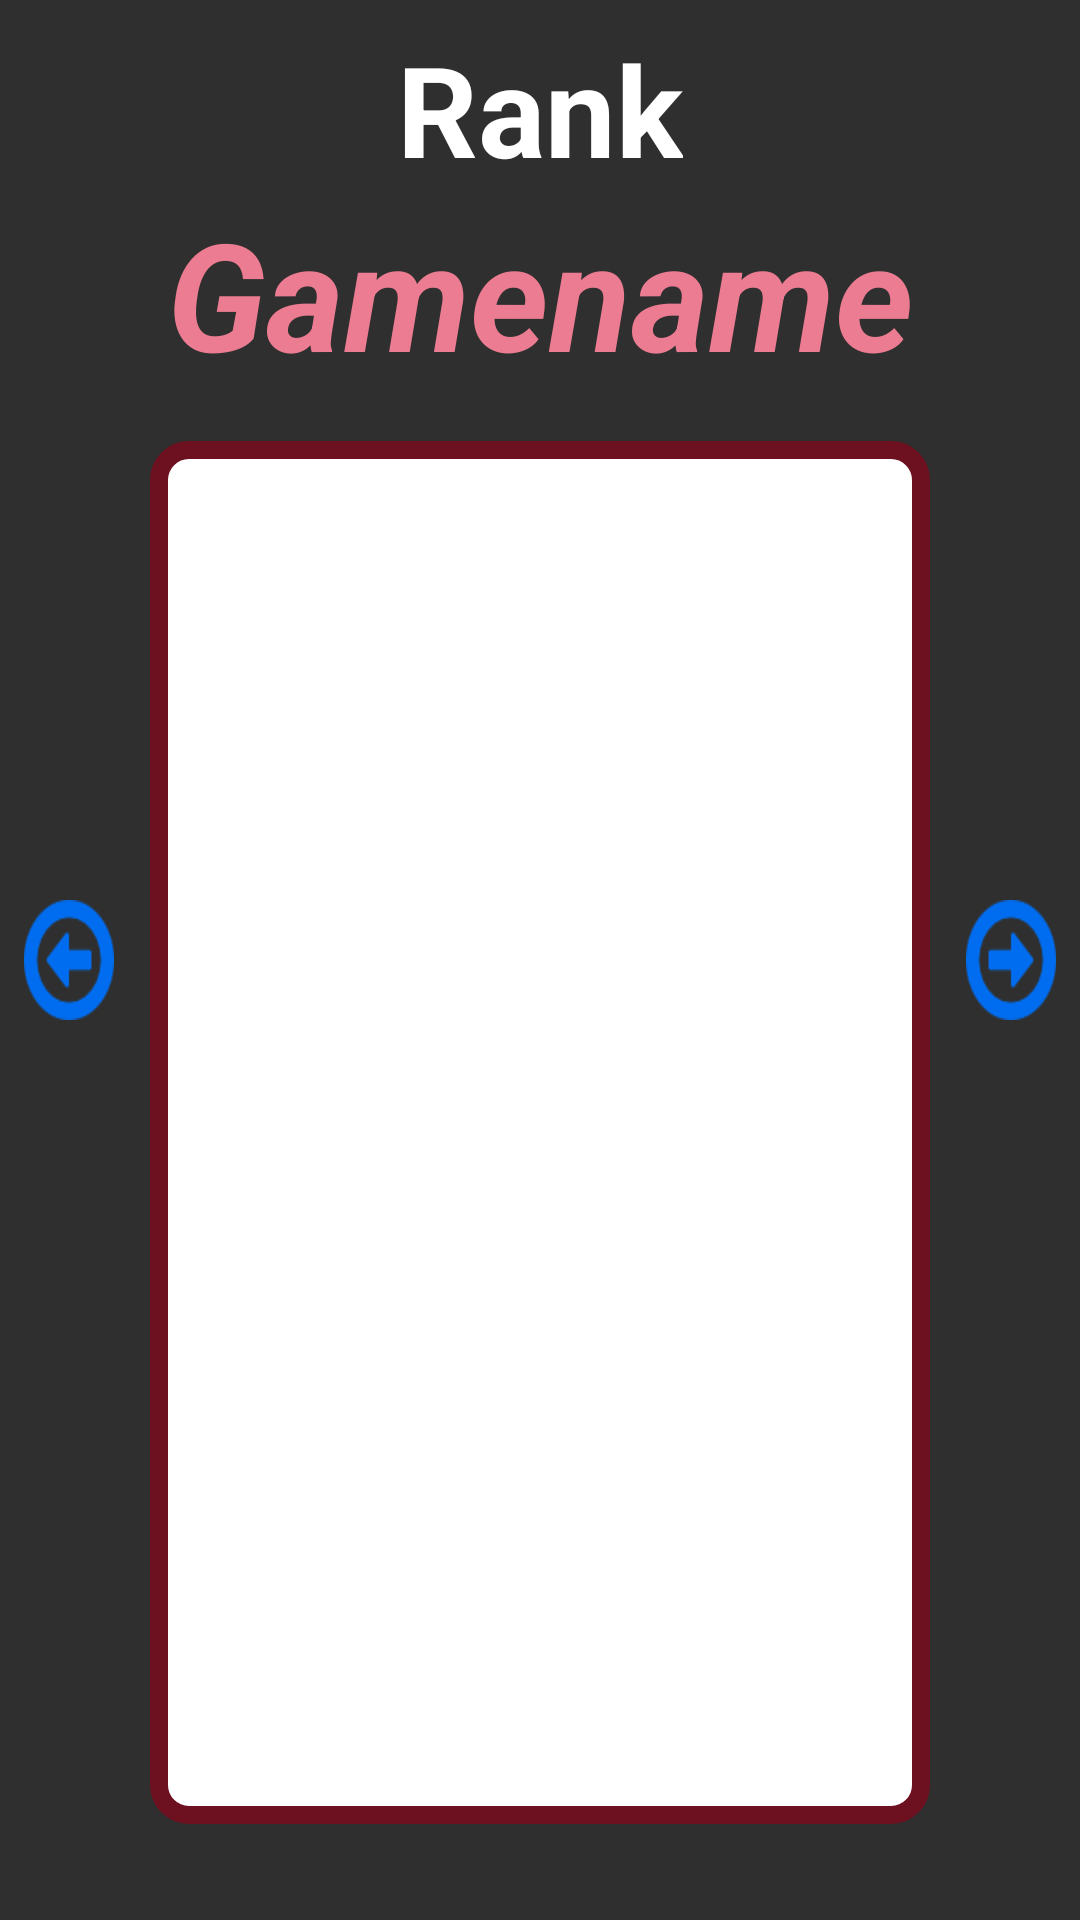

Where icons sit on this 1080w x 1920h app screen, as (x1, y1, x2, y2):
leftarrow: (24, 900, 114, 1020)
rightarrow: (966, 900, 1056, 1020)
